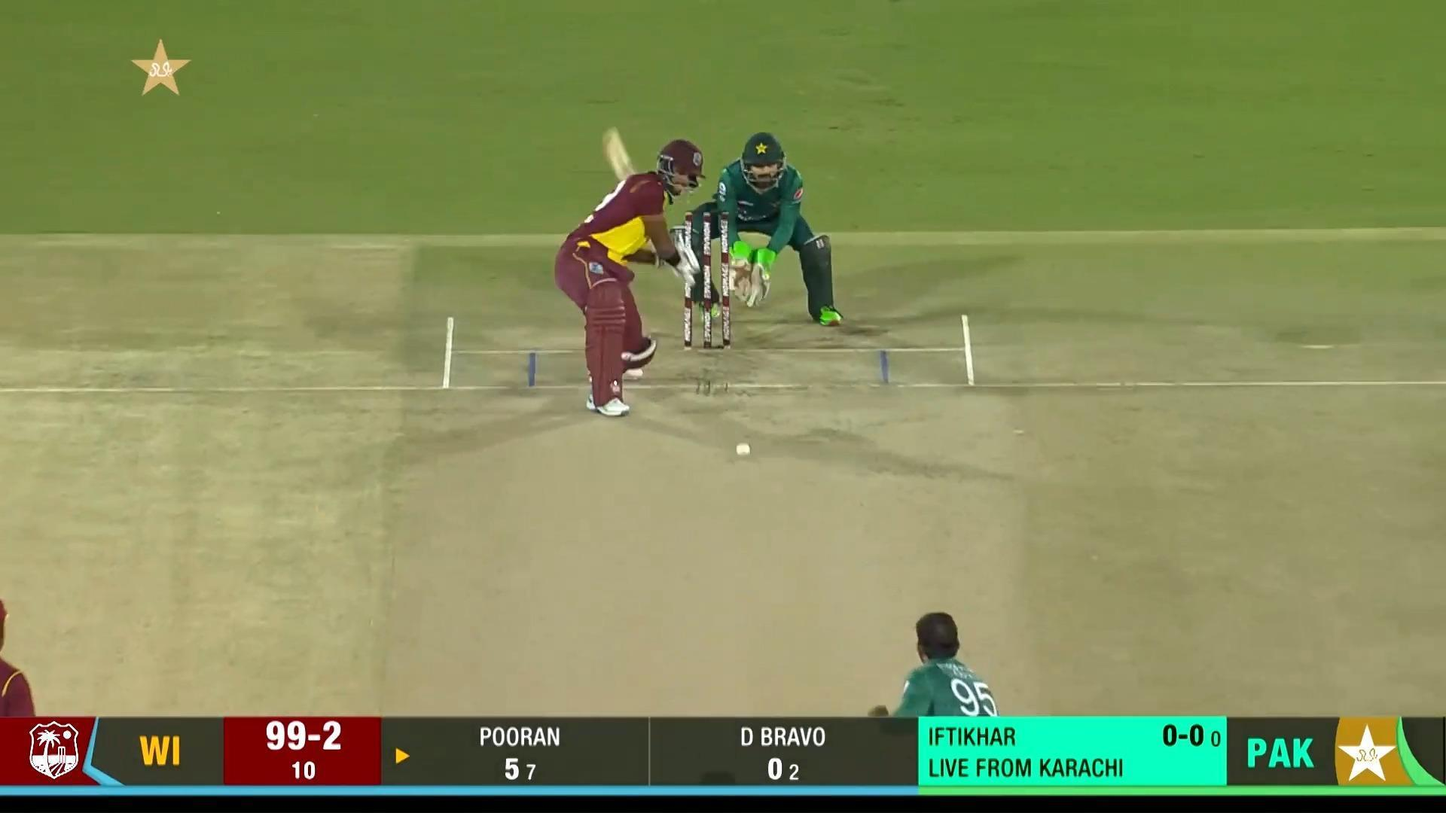BM 1: (554, 125, 707, 417)
BO: (869, 610, 1001, 717)
